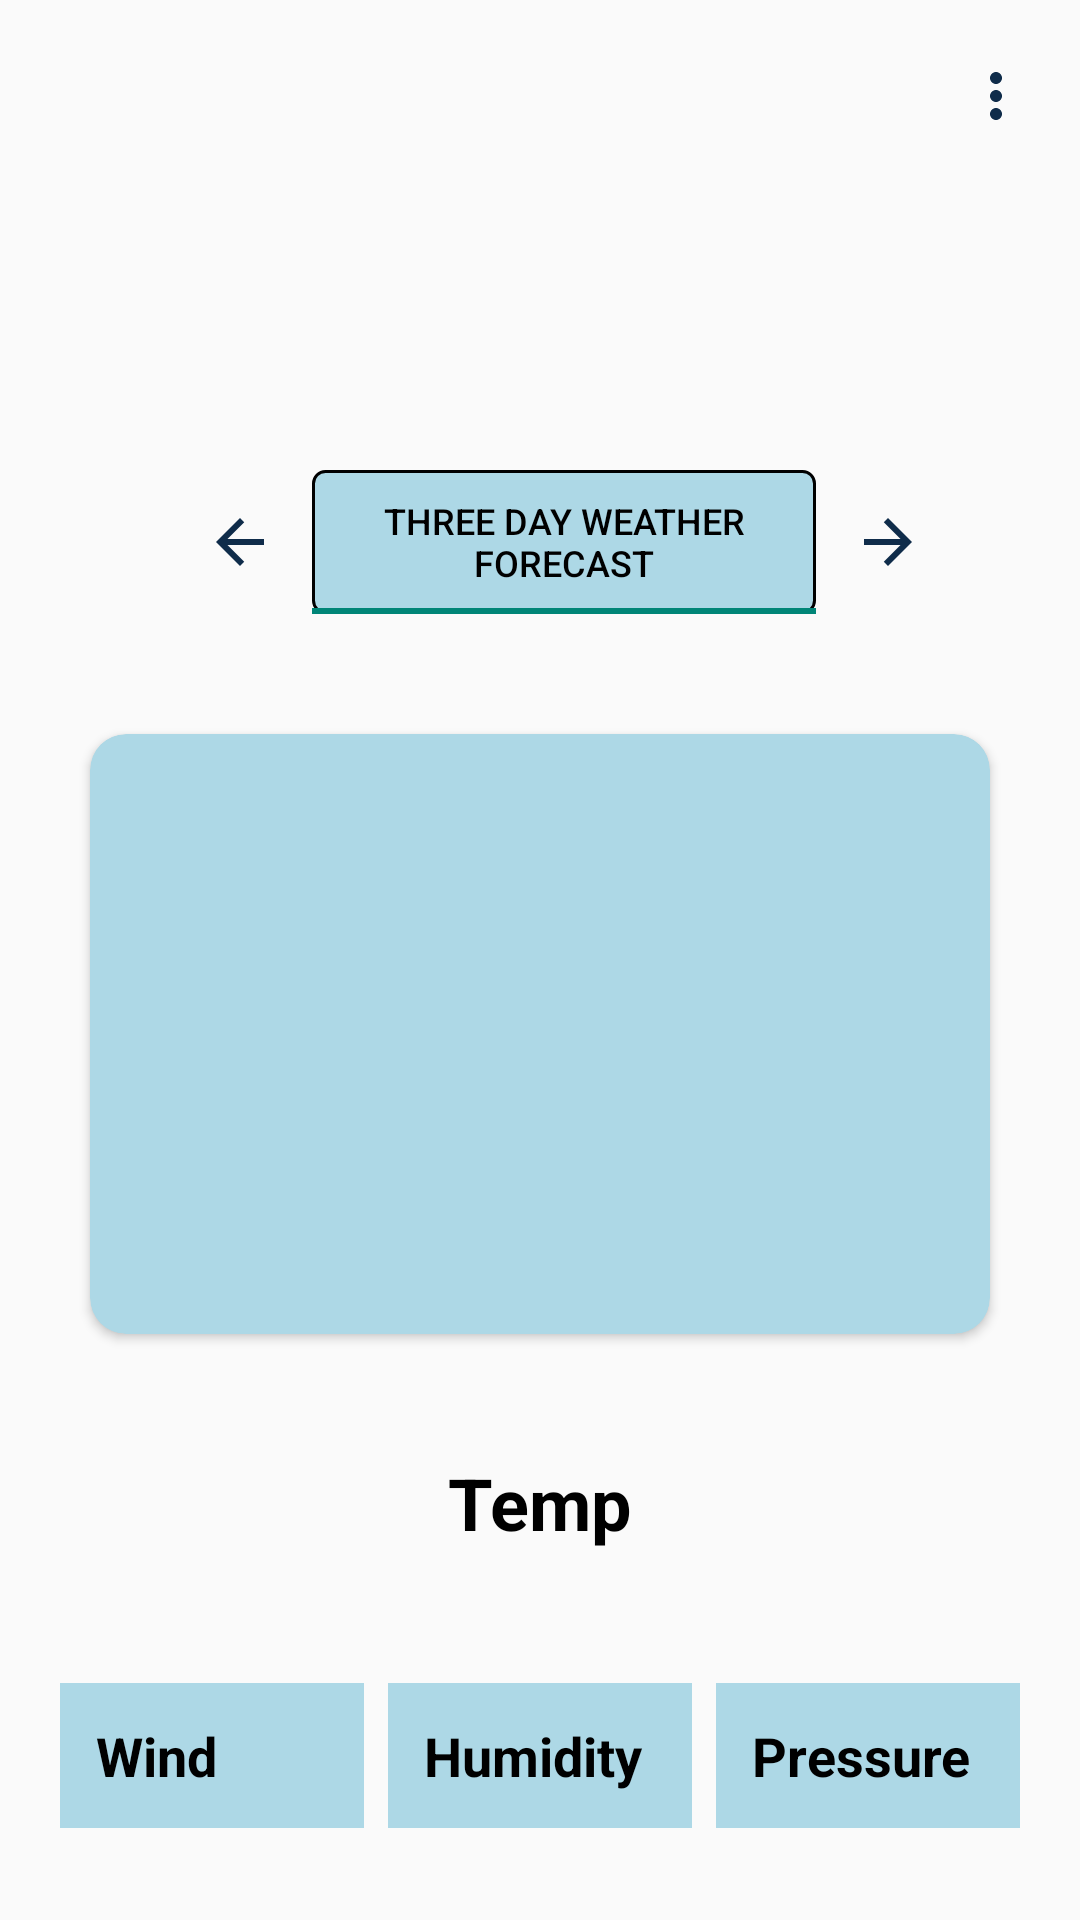

Named icons in this screenshot (1080px×1920px) and their centers, point (x, y):
next: point (888, 542)
prev: point (240, 542)
